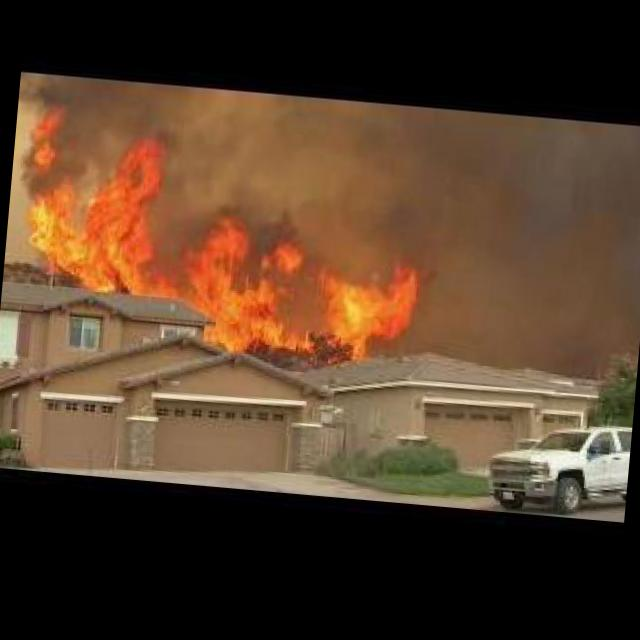fire: (9, 114, 427, 374)
smoke: (197, 136, 316, 271), (10, 62, 121, 194)
